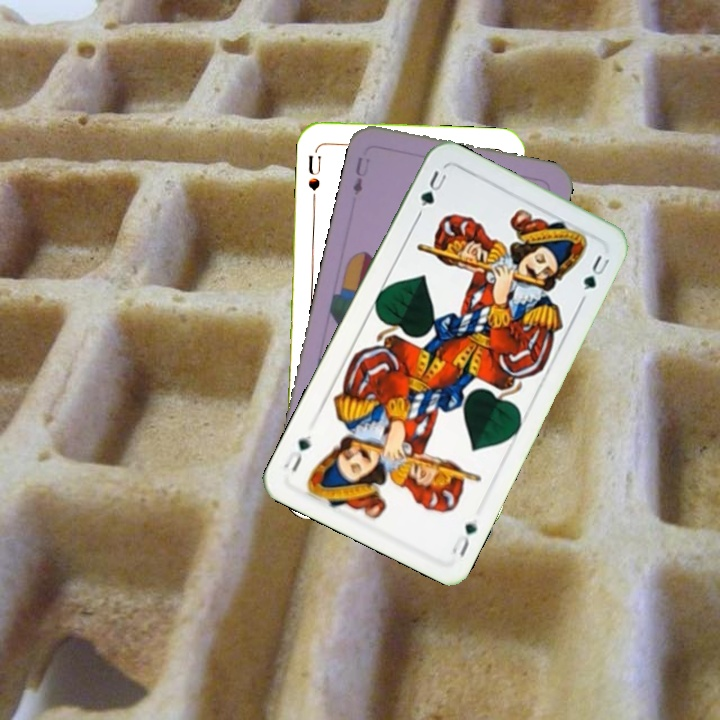EU: (348, 153, 373, 198)
GU: (413, 166, 450, 219), (447, 518, 480, 560)
SU: (304, 151, 324, 193)
